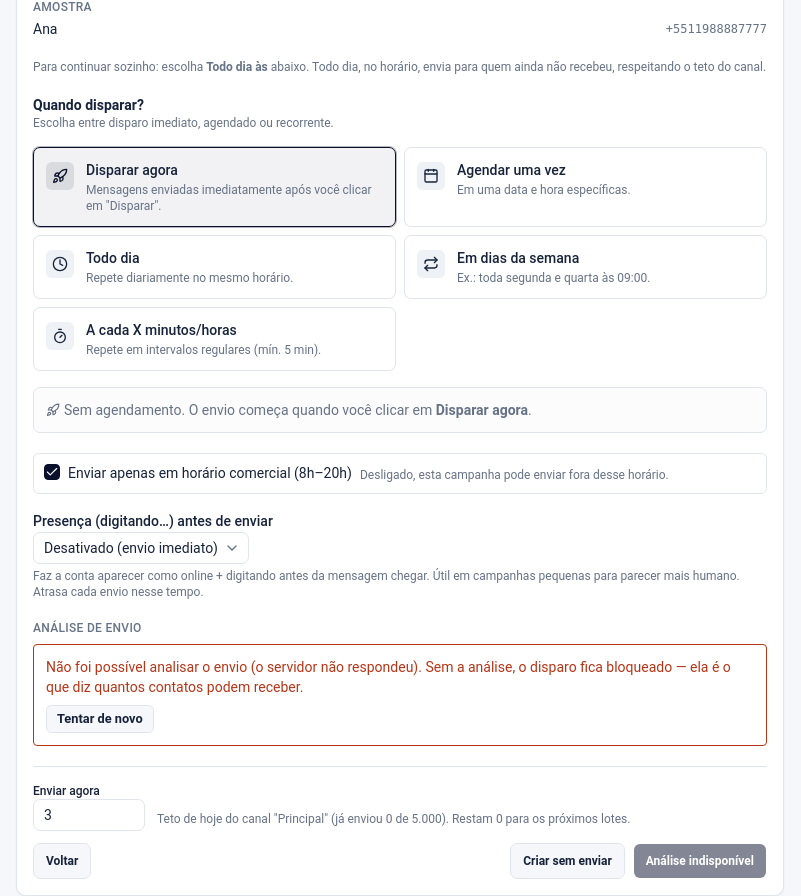
Scenario: C1b — passo 4 mostra quem consentiu para a finalidade › preflight caiu → a tela DIZ que a análise falhou e oferece "Tentar de novo"
The width and height of the screenshot is (801, 896).
(page scrolled)
Expected: the element with test id "analysis-error" shows "Não foi possível analisar o envio", [46,659,731,695]
Expected: the button with test id "create-and-send" is disabled, [633,843,767,879]
Click the button "Tentar de novo": x=100, y=719 [46,705,154,733]
(page scrolled)
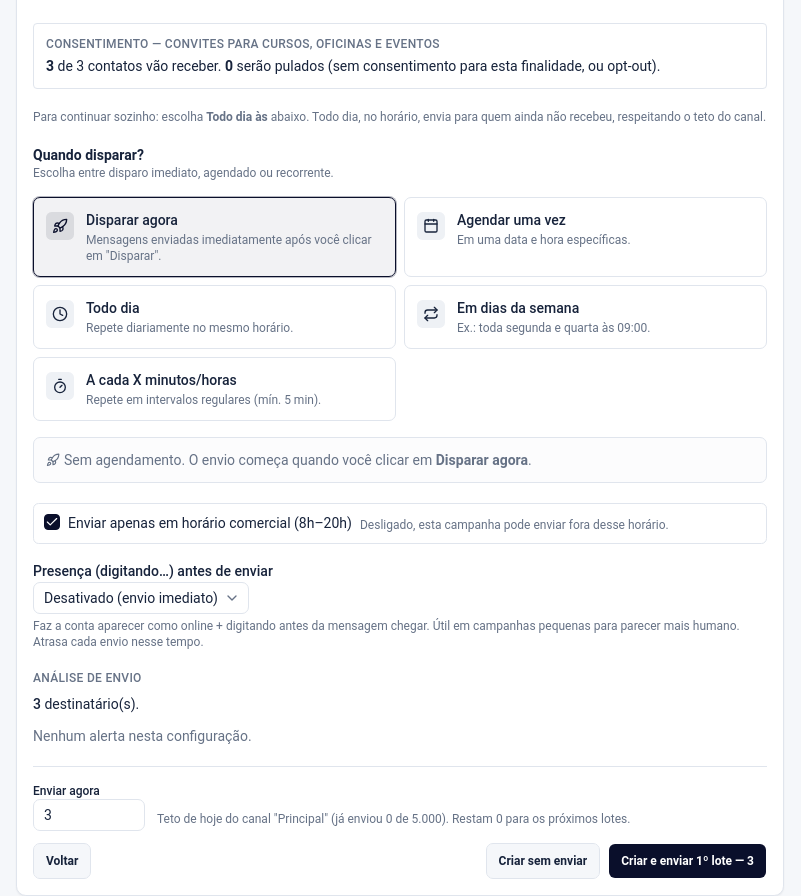
Expected: the button with test id "create-and-send" is enabled, [608,843,767,879]
